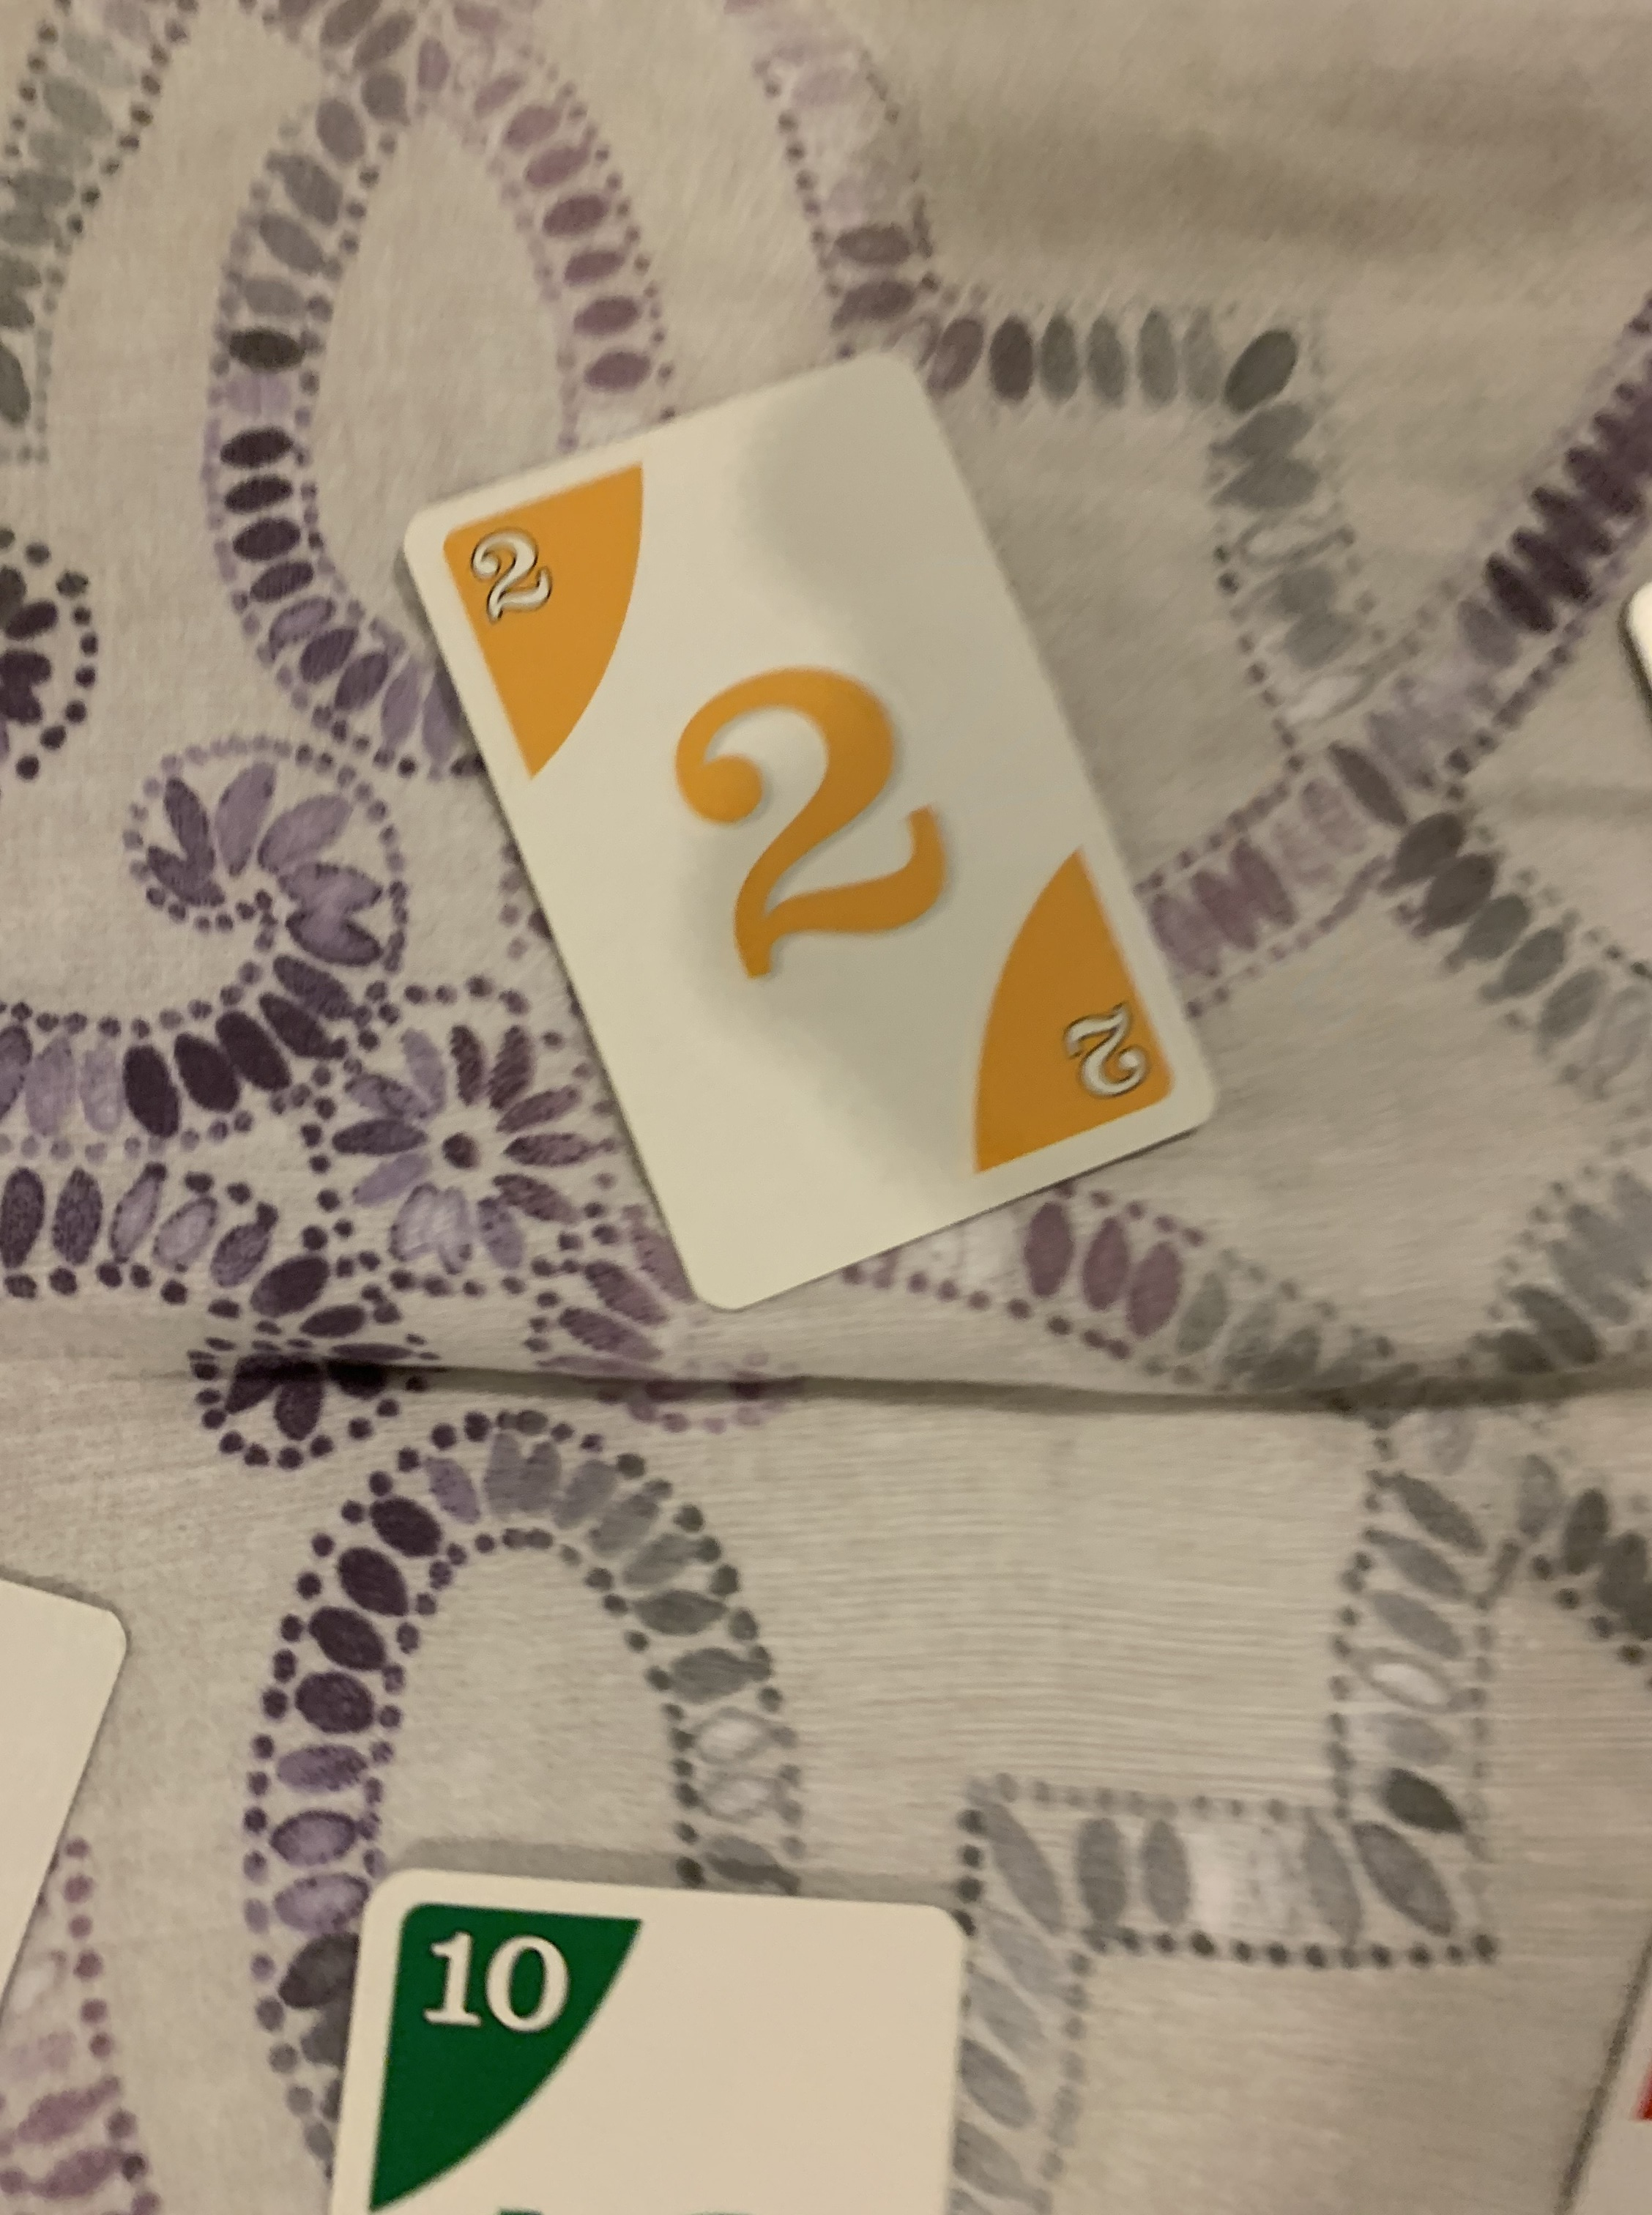two: (408, 351, 1234, 1309)
